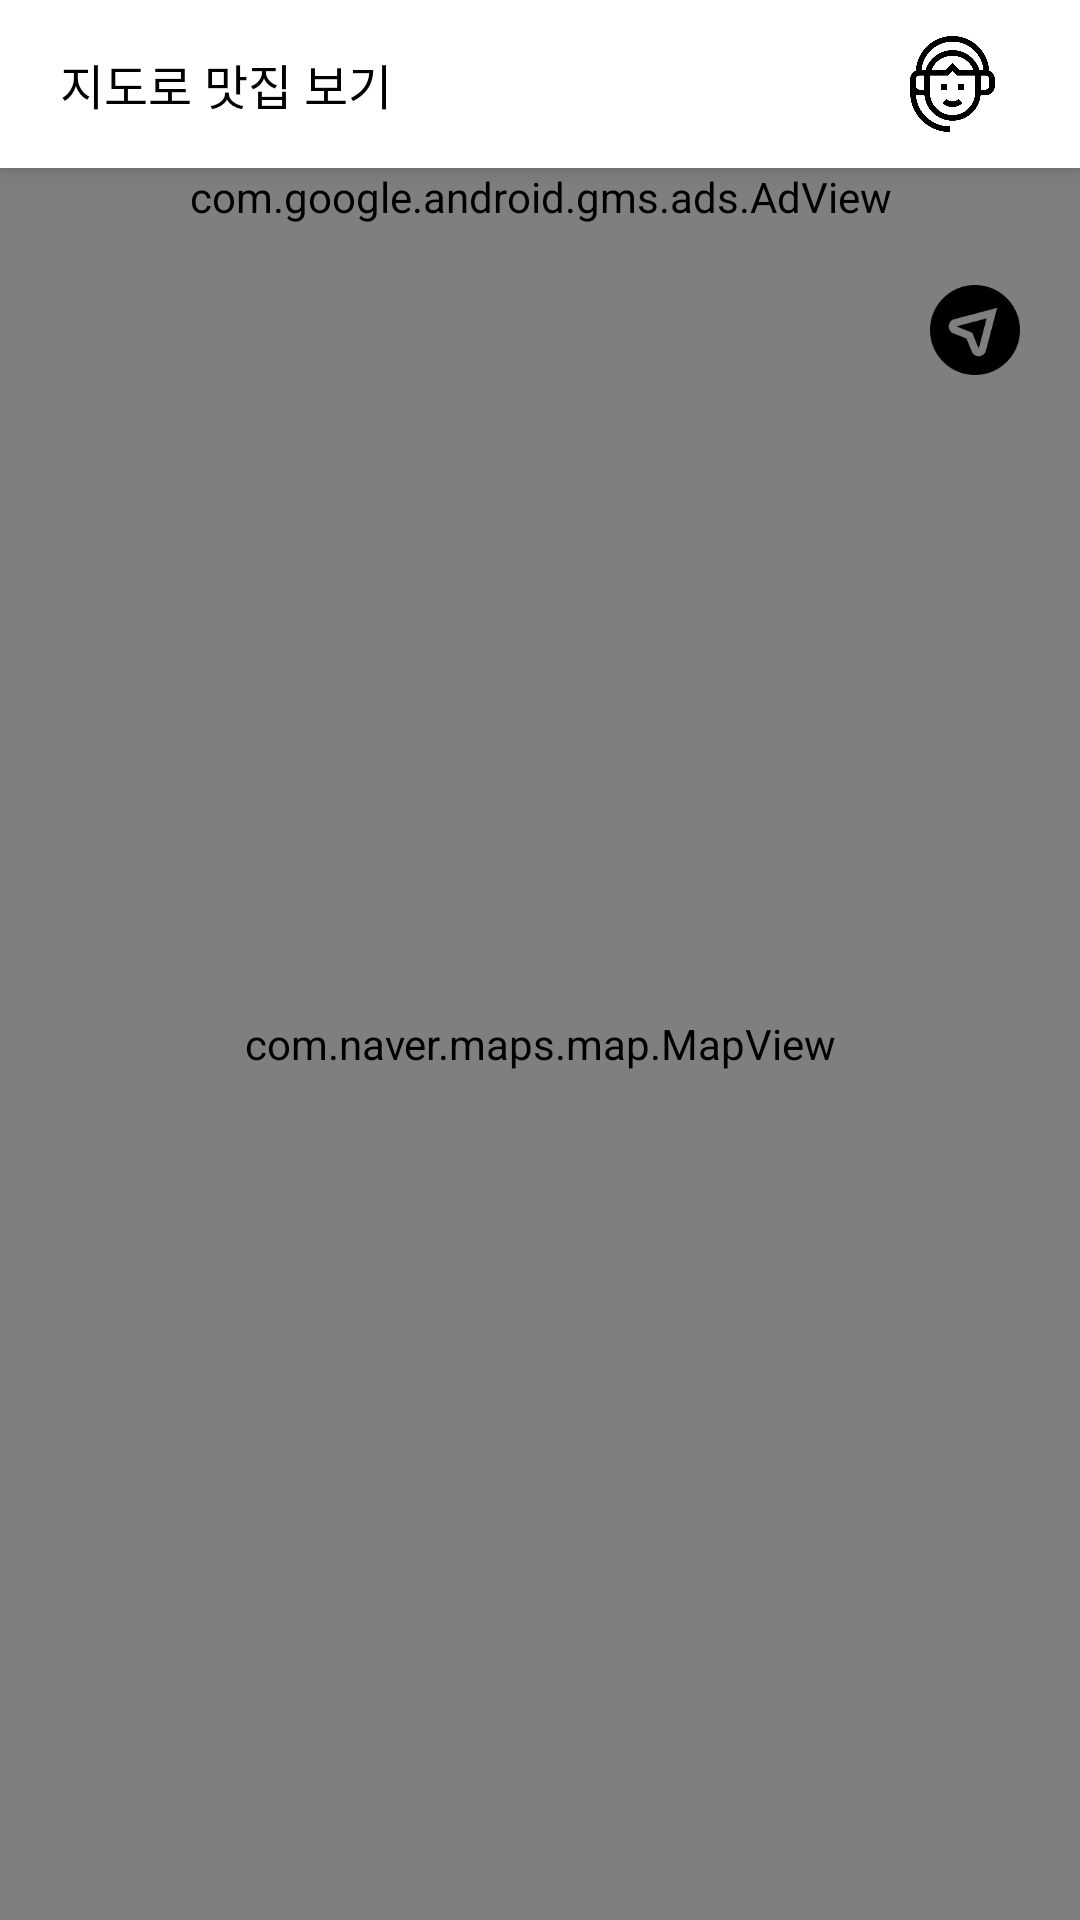

Where icons sit on this 1080 x 1920 app screen, as (x1, y1, x2, y2):
crnavigation: (930, 285, 1020, 375)
customerservice: (910, 36, 995, 132)
